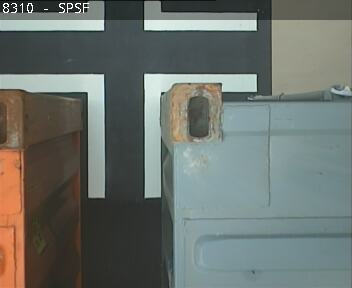groundmarker_1: (1, 73, 259, 198), (1, 1, 256, 30)
